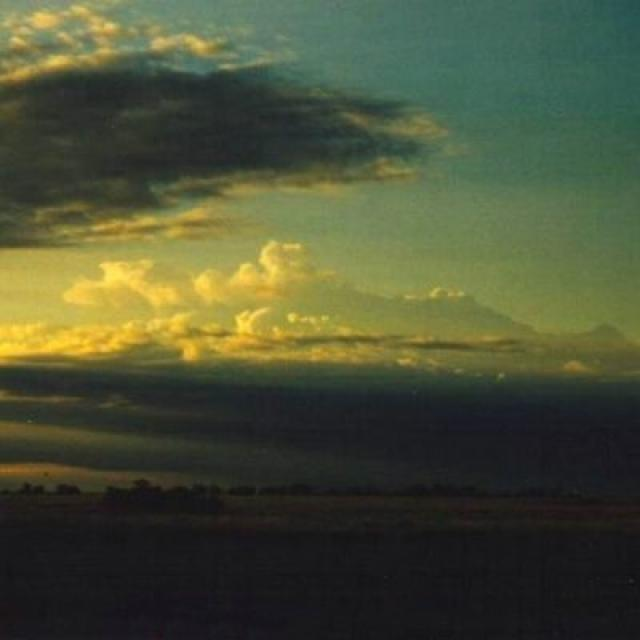St: (3, 18, 432, 271)
